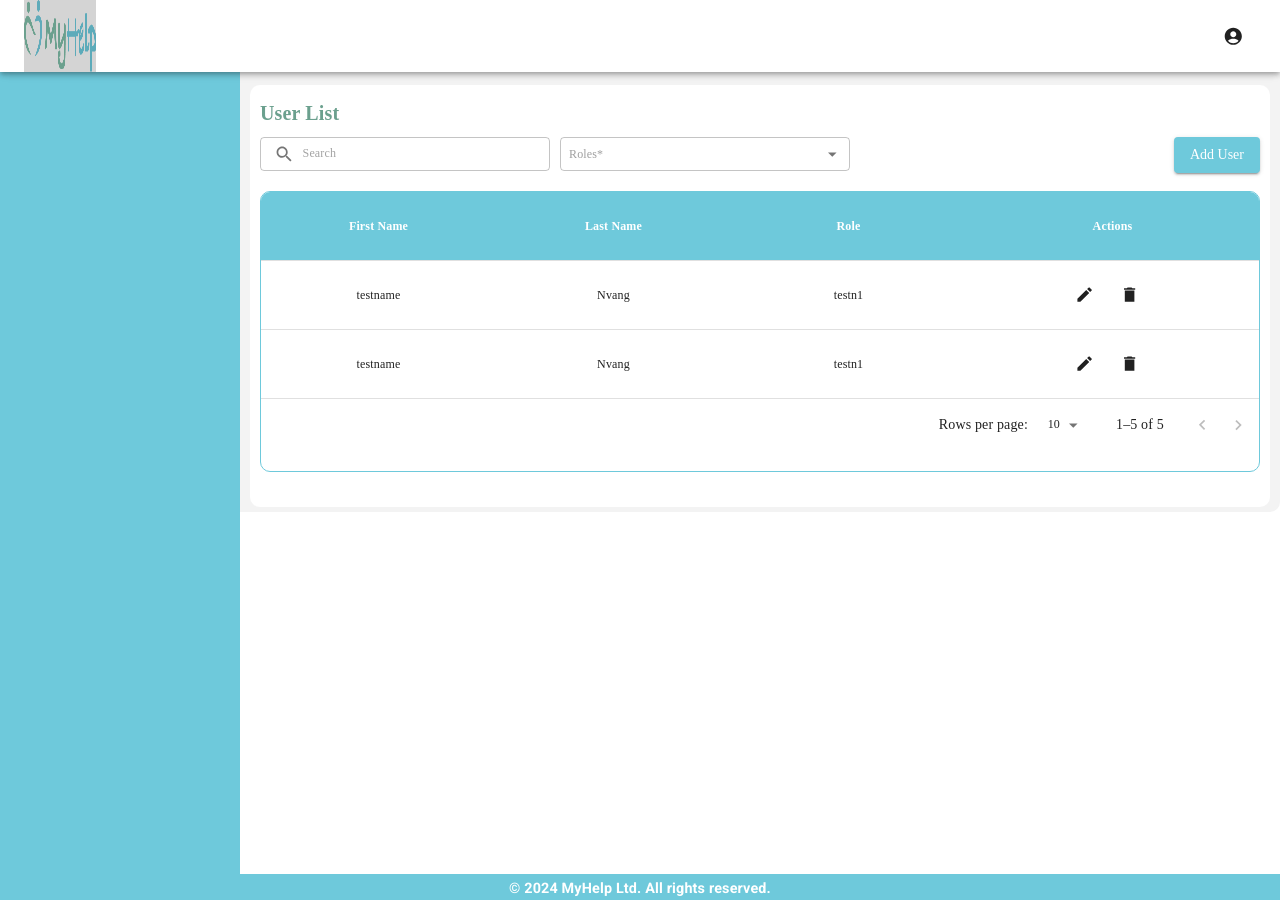
it: Patient user add › should edit user
Click the button with test id "iconButton_edit_customeruserid1".
click(1085, 295)  # box [1068, 277, 1102, 313]
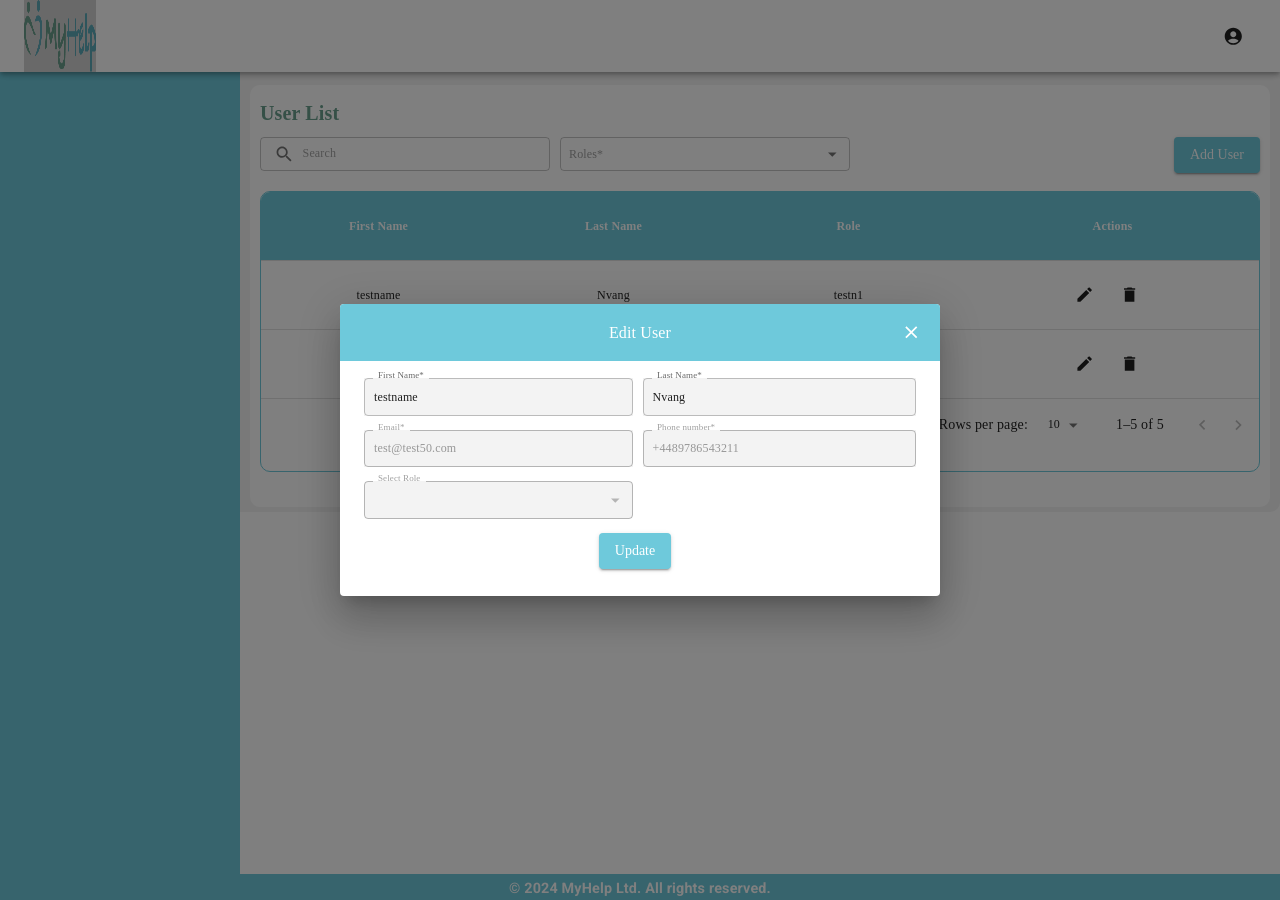
Click the button with test id "newUserSubmit".
click(635, 551)  # box [599, 533, 671, 569]
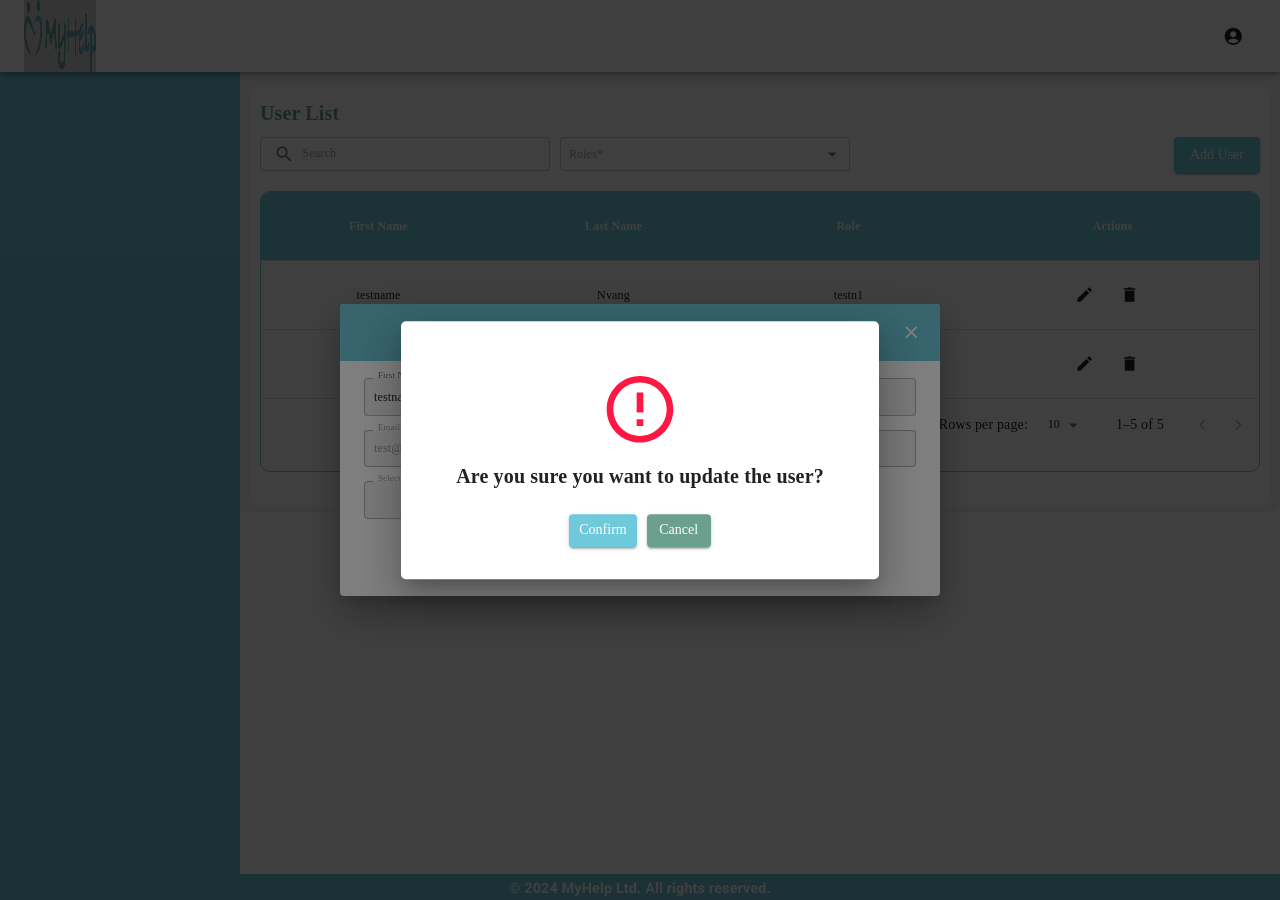
Click the button with test id "confirmButton".
click(603, 531)  # box [569, 514, 637, 547]
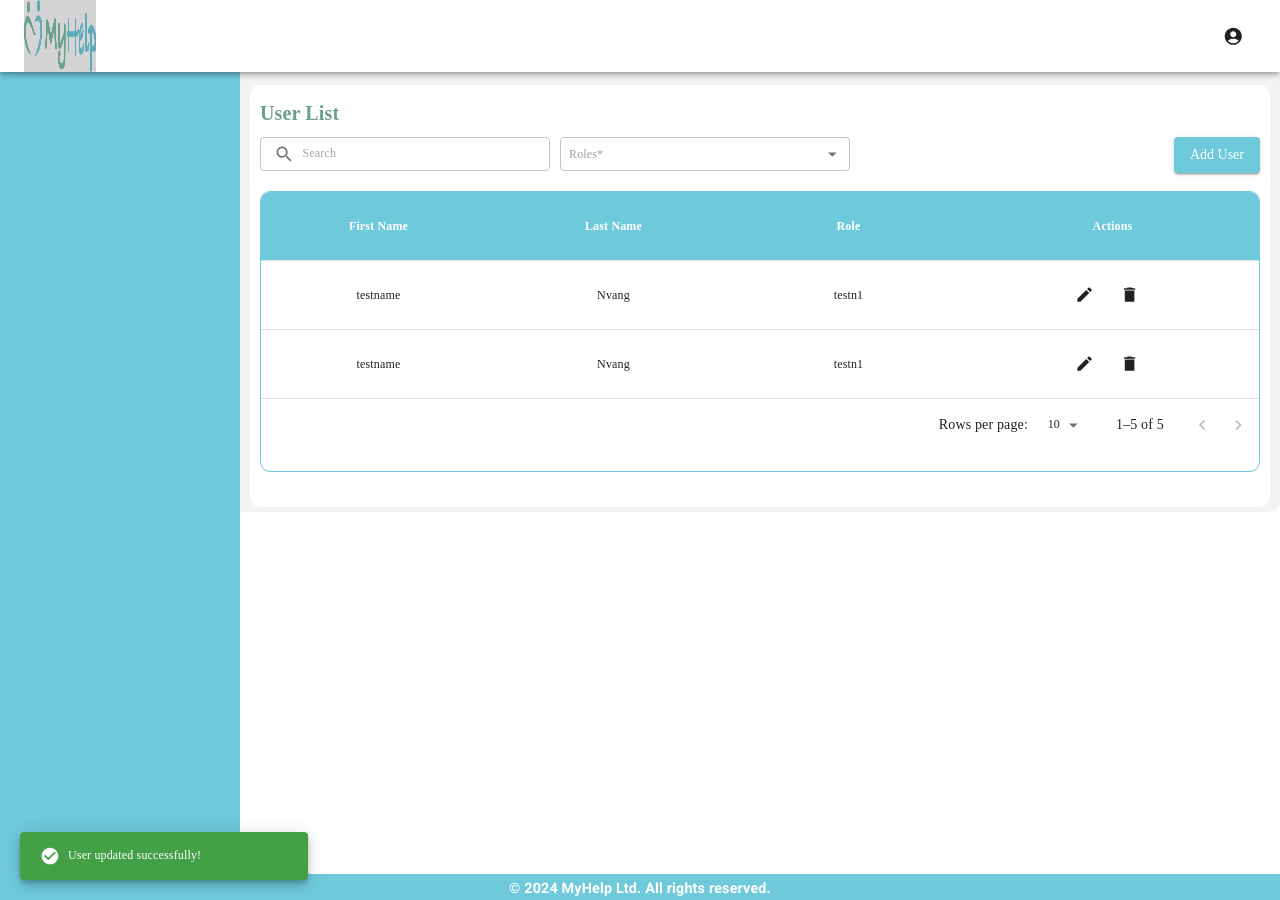
Now the text "User updated successfully!" is shown, box [40, 846, 201, 866]
